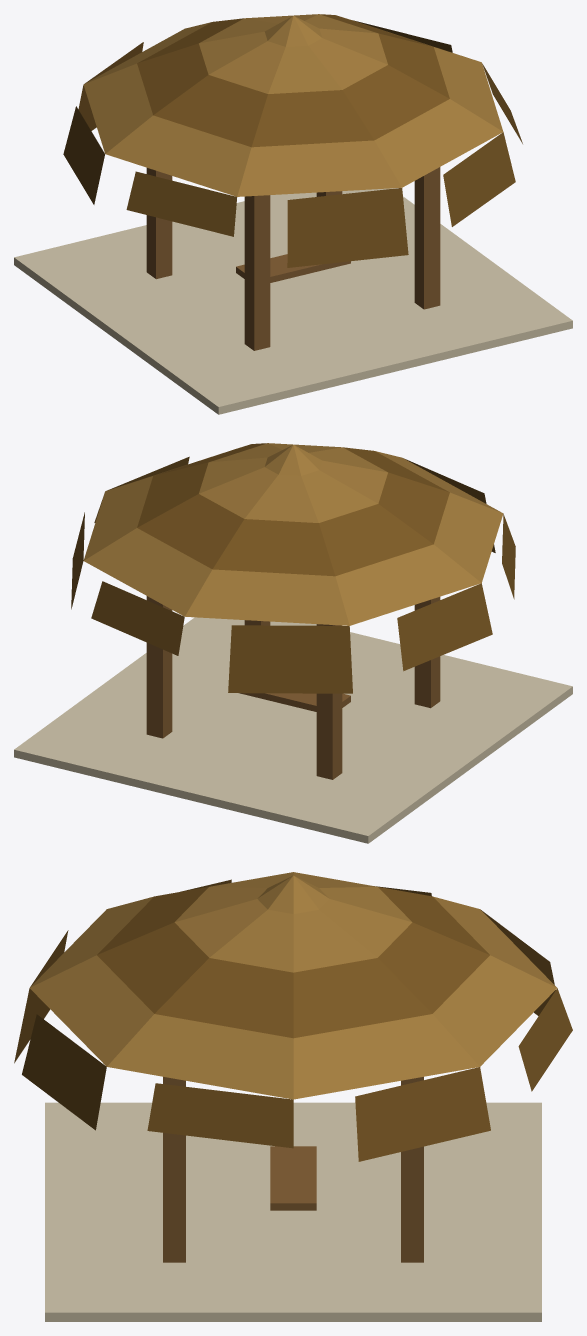
The model's file is palapa_m25_m7.glb.
3 renders of one model, top to bottom at view 1: azimuth 30°, elevation 25°; view 2: azimuth 150°, elevation 25°; view 3: azimuth 270°, elevation 25°, orthographic. The views are drawn at different scales.
Visible parts, largest first — view 1: palapa_m25_m7_lod0; view 2: palapa_m25_m7_lod0; view 3: palapa_m25_m7_lod0.
Boxes of the visible parts, x1,y1,x2,y2 form: palapa_m25_m7_lod0: (14, 14, 572, 414); palapa_m25_m7_lod0: (14, 443, 572, 843); palapa_m25_m7_lod0: (14, 872, 572, 1321).
Size of what is drawn, in the model's own units: 5.4 by 3.65 by 5.4.
